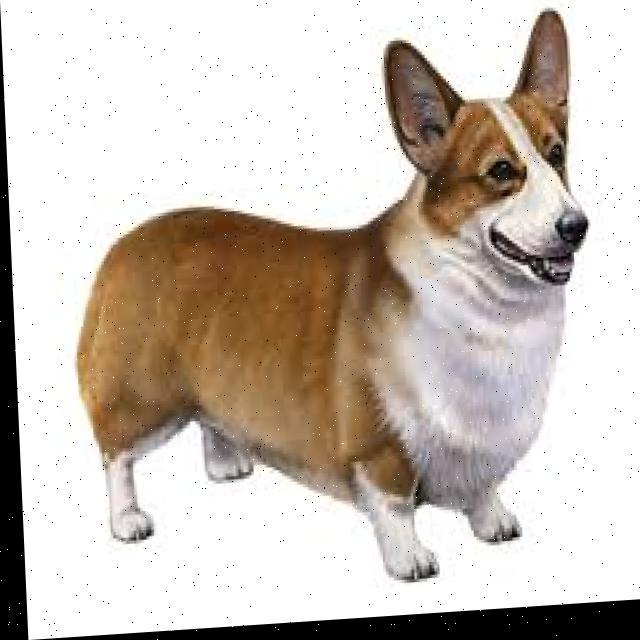CORGI: (62, 1, 607, 615)
